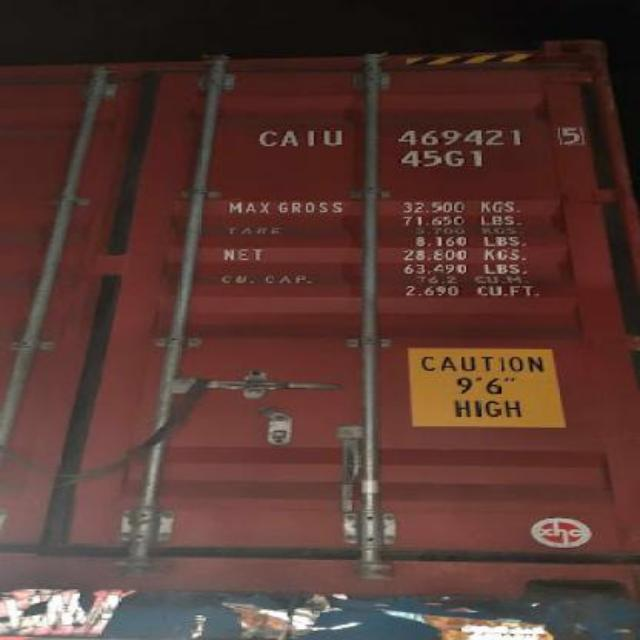1: (506, 129, 526, 147)
2: (484, 129, 508, 145)
4: (394, 128, 420, 146), (464, 129, 484, 145)
5: (556, 126, 584, 144)
6: (420, 128, 440, 146)
9: (441, 130, 462, 144)
A: (278, 129, 302, 147)
C: (256, 129, 278, 147)
I: (304, 128, 320, 148)
U: (322, 128, 348, 148)
